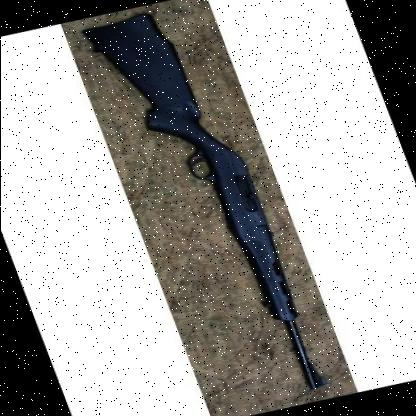rifle: (84, 6, 334, 404)
